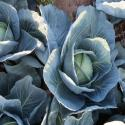cabbage: (68, 46, 108, 87), (0, 15, 17, 55), (0, 107, 31, 125)
